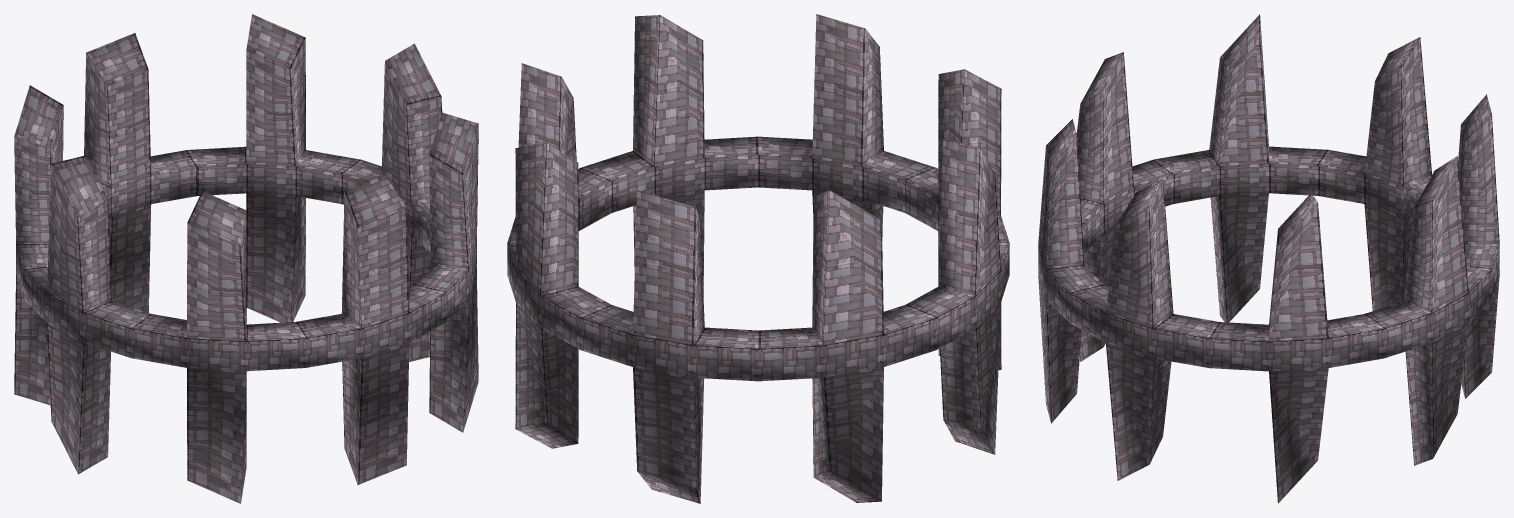
File: ringouter.glb
3 renders of one model, left to right at view 1: azimuth 30°, elevation 25°; view 2: azimuth 150°, elevation 25°; view 3: azimuth 270°, elevation 25°, orthographic. The views are drawn at different scales.
Parts seen in each view (by area): view 1: ring; view 2: ring; view 3: ring.
Boxes of the visible parts, box(x1,y1,x2,y2) form: ring: box(14, 14, 478, 503); ring: box(507, 14, 1009, 503); ring: box(1038, 14, 1499, 503).
Size of the model in its own units: 63.33 by 46.41 by 63.33.
Materials: 1 (1 with a texture image).
